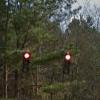Traffic light: (16, 45, 76, 75)
